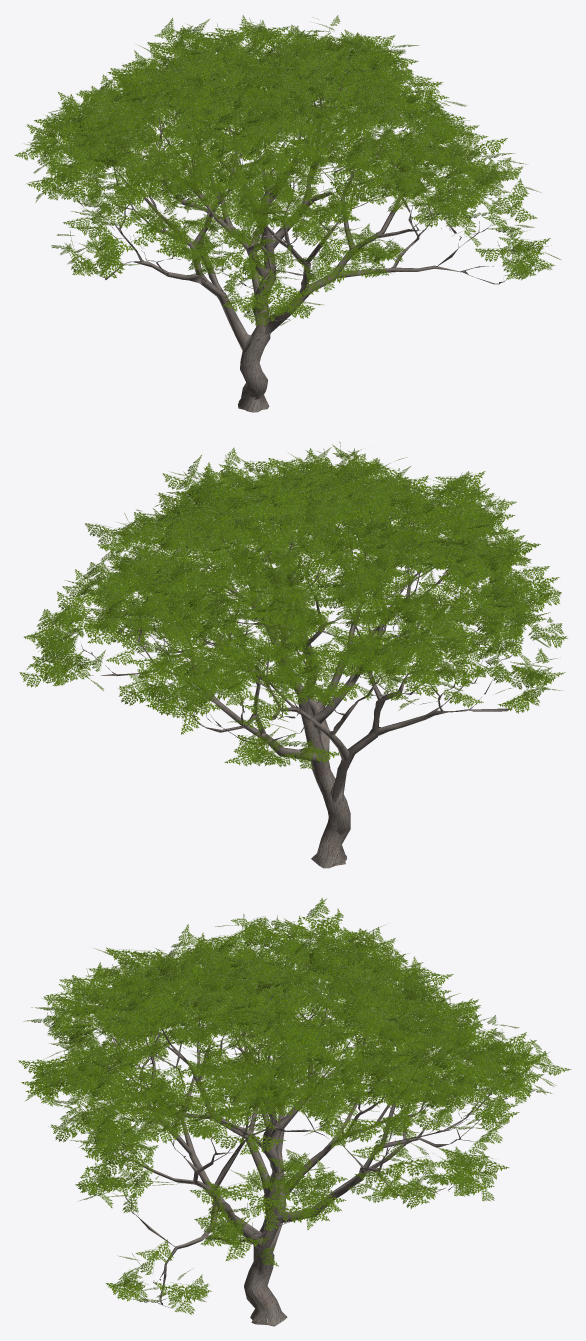
Rendered from chinaberry_b.glb.
3 views of the same model, one above another, from view 1: azimuth 30°, elevation 25°; view 2: azimuth 150°, elevation 25°; view 3: azimuth 270°, elevation 25° (orthographic). The views are drawn at different scales.
Visible parts, largest first — view 1: Melia_azedarach_HD_Melia bark 01_0; view 2: Melia_azedarach_HD_Melia bark 01_0; view 3: Melia_azedarach_HD_Melia bark 01_0.
Part boxes in pixels (bbox=[...]): Melia_azedarach_HD_Melia bark 01_0: bbox=[14, 15, 560, 412]; Melia_azedarach_HD_Melia bark 01_0: bbox=[19, 442, 567, 868]; Melia_azedarach_HD_Melia bark 01_0: bbox=[18, 898, 571, 1326].
Bounding box in the file's own units: 8.67 × 6.36 × 8.51.
Materials: 2 (2 with a texture image).
